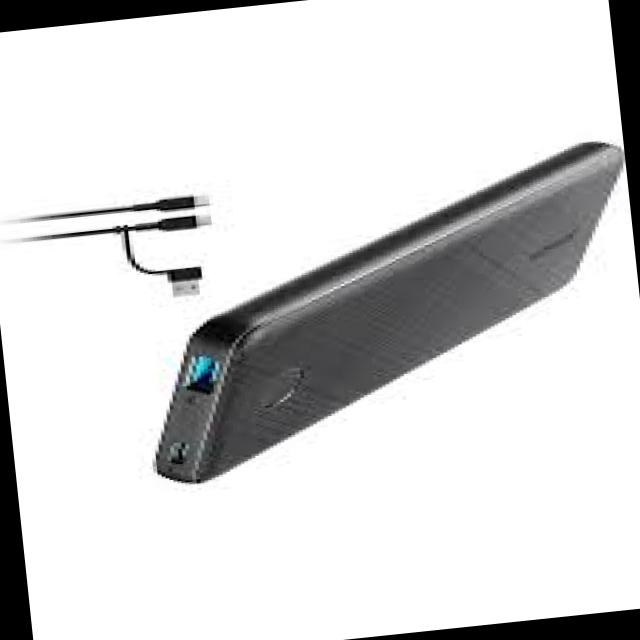portable-charger: (117, 134, 640, 491)
